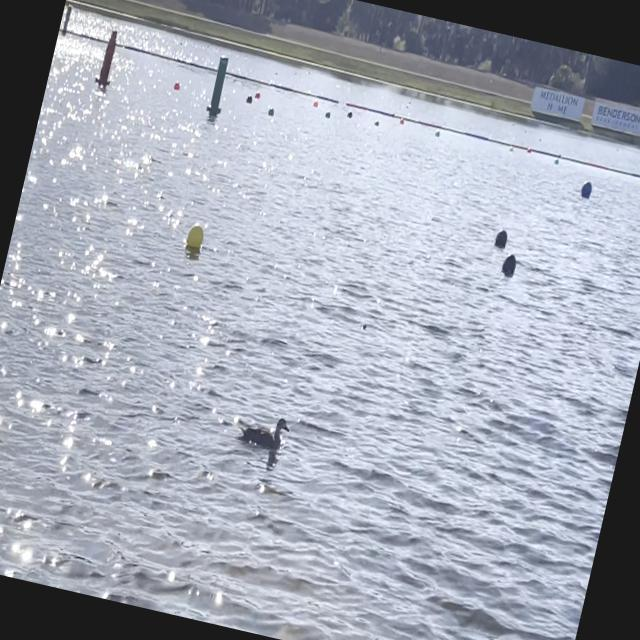buoy: (185, 222, 206, 252), (500, 252, 518, 276), (494, 228, 508, 247), (580, 178, 593, 198)
